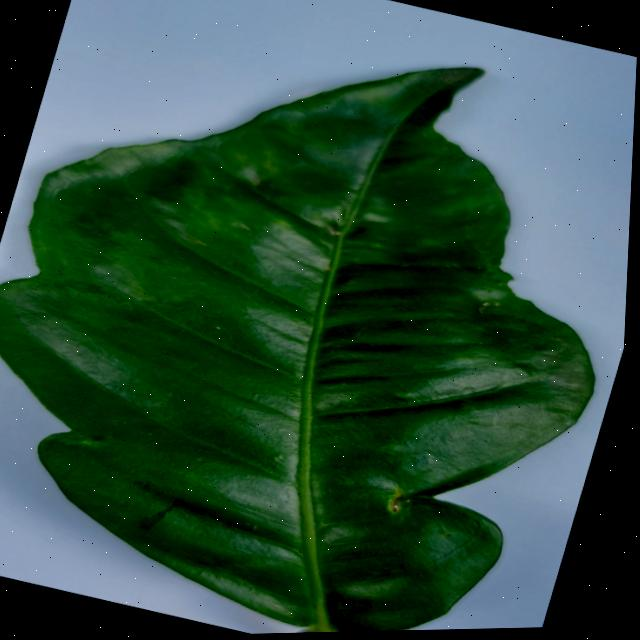greening: (0, 66, 592, 633)
